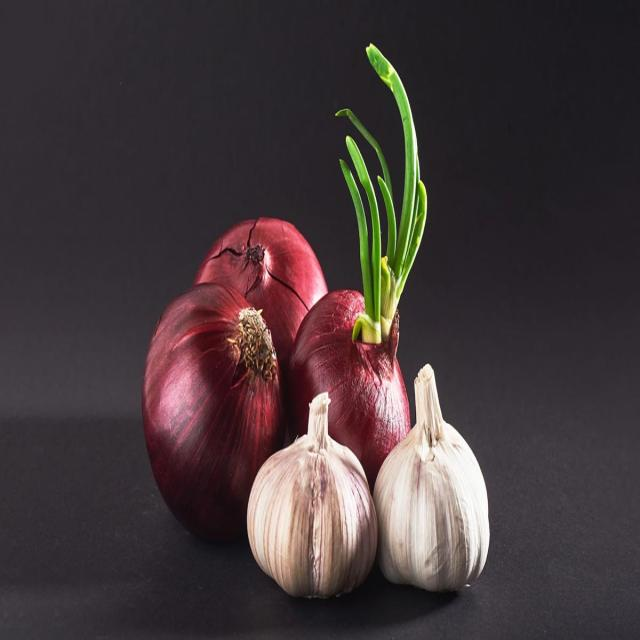apple: (141, 284, 287, 520), (249, 400, 379, 601), (379, 376, 494, 600), (289, 284, 410, 450)
